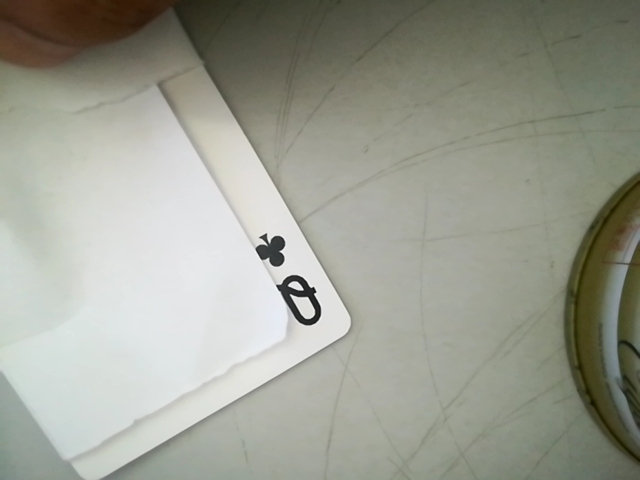mh q: (248, 221, 333, 336)
